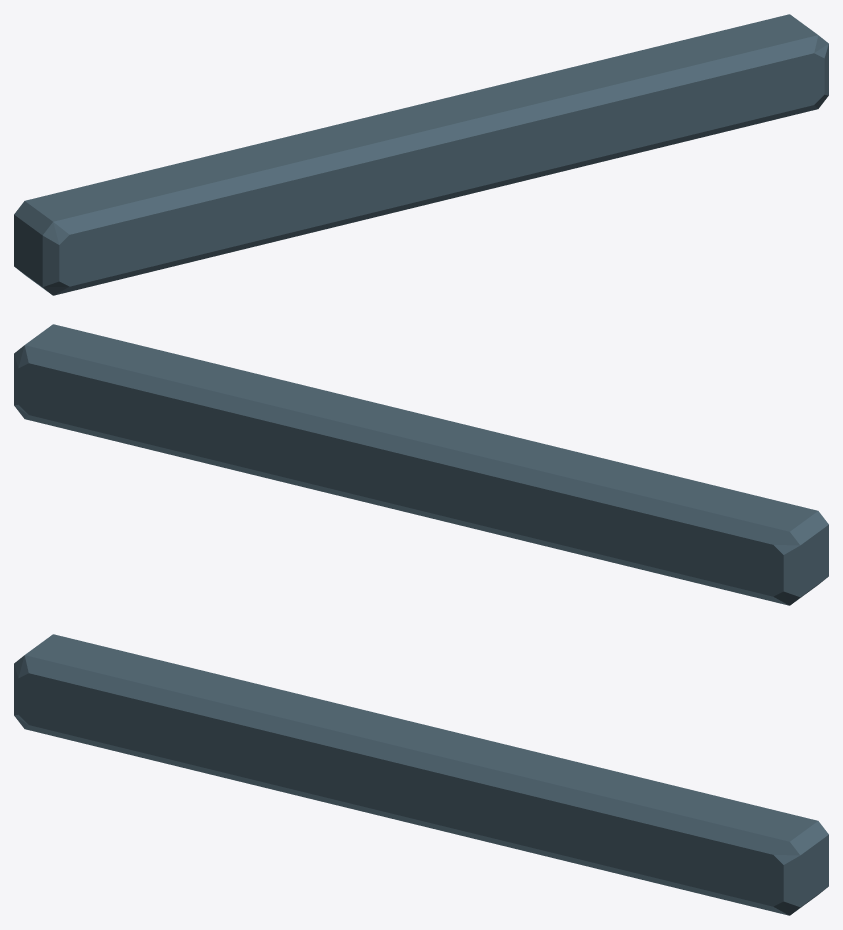
Rendered from 07_Beam_1m.obj.
3 views of the same model, one above another, from view 1: azimuth 30°, elevation 25°; view 2: azimuth 150°, elevation 25°; view 3: azimuth 330°, elevation 25° (orthographic).
Size of the model in its own units: 1 by 0.09 by 0.09.
